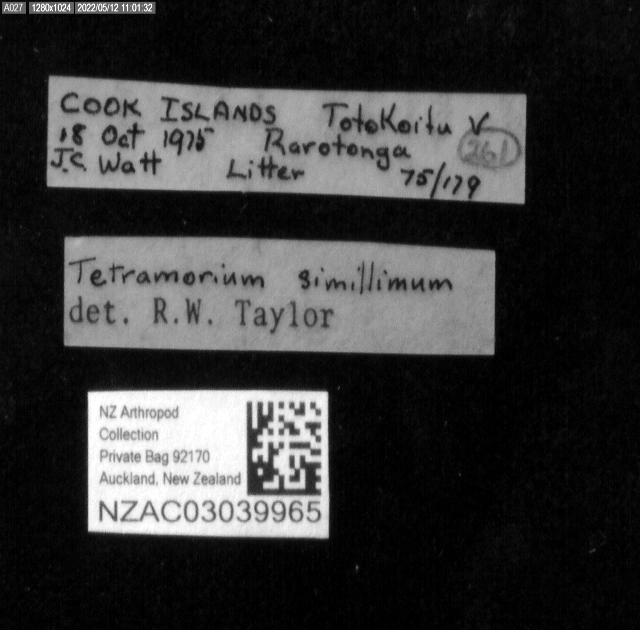hand_label: (48, 77, 526, 203)
mixed_label: (64, 236, 495, 355)
typed_label: (88, 391, 329, 539)
